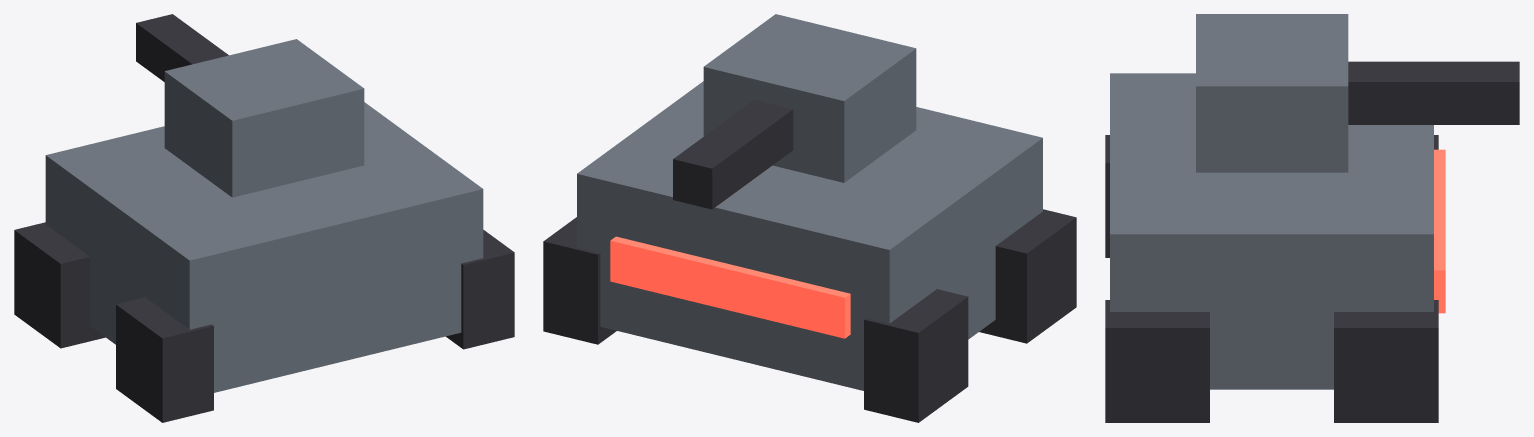
Rendered from debug_robot.glb.
3 renders of one model, left to right at view 1: azimuth 30°, elevation 25°; view 2: azimuth 150°, elevation 25°; view 3: azimuth 270°, elevation 25°, orthographic. The views are drawn at different scales.
Parts seen in each view (by area): view 1: BASE, GIMBAL_MAIN, WHEEL_BR, WHEEL_FR, WHEEL_BL, BARREL; view 2: BASE, GIMBAL_MAIN, FRONT_MARKER, WHEEL_FR, WHEEL_BR, BARREL, WHEEL_FL; view 3: BASE, GIMBAL_MAIN, WHEEL_FL, WHEEL_BL, BARREL, FRONT_MARKER, WHEEL_BR.
Part boxes in pixels (bbox=[...]): BASE: bbox=[45, 102, 483, 392]; GIMBAL_MAIN: bbox=[164, 39, 364, 197]; WHEEL_BR: bbox=[116, 297, 213, 422]; WHEEL_FR: bbox=[14, 222, 105, 348]; WHEEL_BL: bbox=[446, 230, 514, 349]; BARREL: bbox=[136, 14, 228, 81]; BASE: bbox=[577, 81, 1042, 390]; GIMBAL_MAIN: bbox=[703, 14, 916, 182]; FRONT_MARKER: bbox=[610, 236, 850, 338]; WHEEL_FR: bbox=[864, 289, 968, 422]; WHEEL_BR: bbox=[979, 209, 1076, 343]; BARREL: bbox=[673, 99, 793, 209]; WHEEL_FL: bbox=[543, 217, 616, 344]; BASE: bbox=[1110, 73, 1433, 389]; GIMBAL_MAIN: bbox=[1196, 14, 1348, 172]; WHEEL_FL: bbox=[1334, 300, 1438, 422]; WHEEL_BL: bbox=[1105, 300, 1209, 422]; BARREL: bbox=[1348, 61, 1519, 124]; FRONT_MARKER: bbox=[1434, 149, 1445, 313]; WHEEL_BR: bbox=[1105, 135, 1109, 257].
Bounding box in the file's own units: 0.48 × 0.32 × 0.435.
